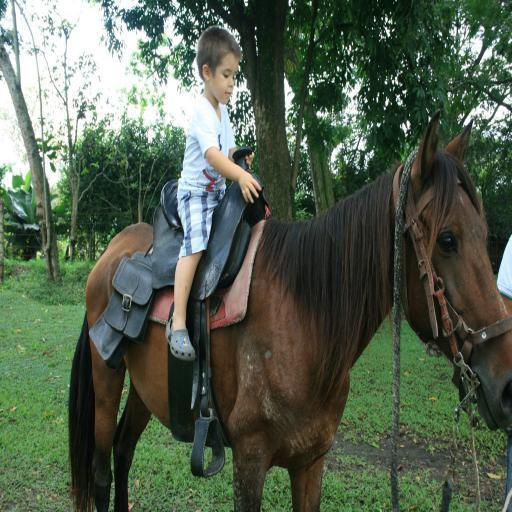horse: (65, 108, 512, 512)
